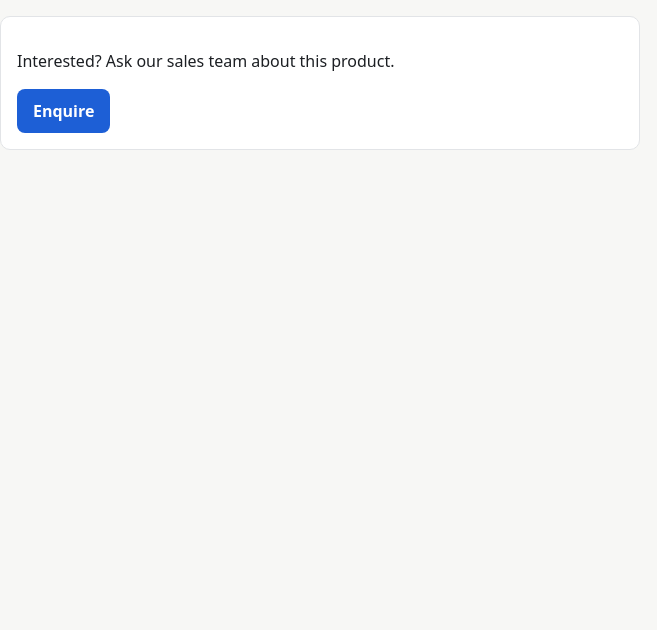
it: EnquiryForm › maps server-side field errors (422) onto the form
Click the button "Enquire" at (64, 111), box [17,89,110,133]
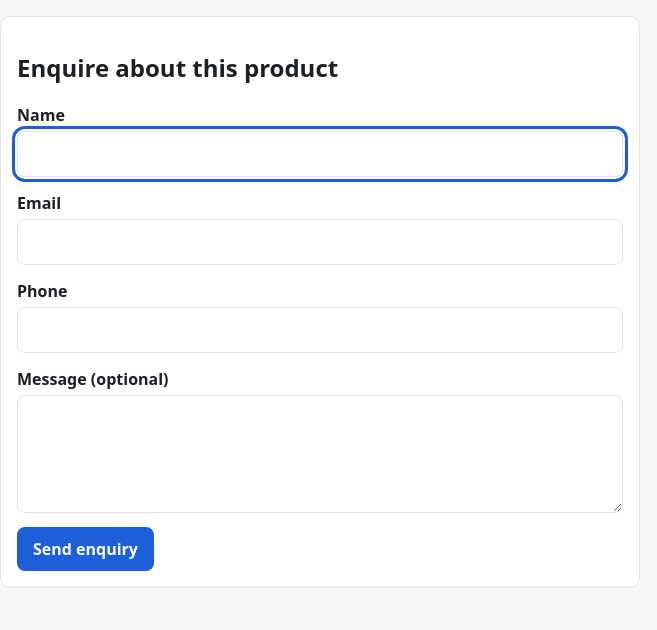
Type "Jane Doe" into the field labelled "Name" at (320, 154), box [17,131,623,177]
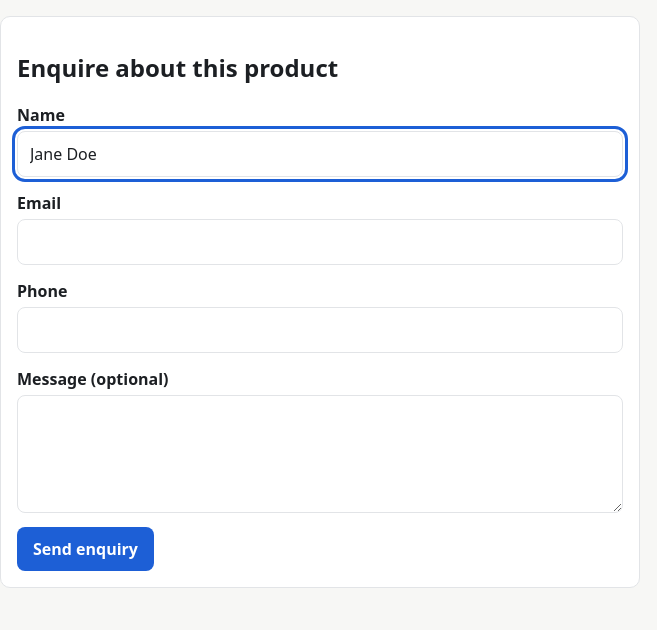
Type "jane@example.com" into the field labelled "Email" at (320, 242), box [17,219,623,265]
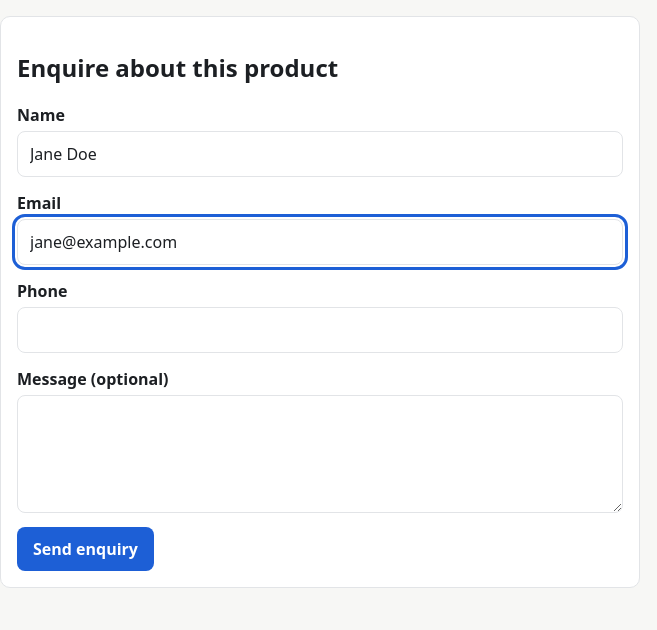
Type "+91 98765 43210" into the field labelled "Phone" at (320, 330), box [17,307,623,353]
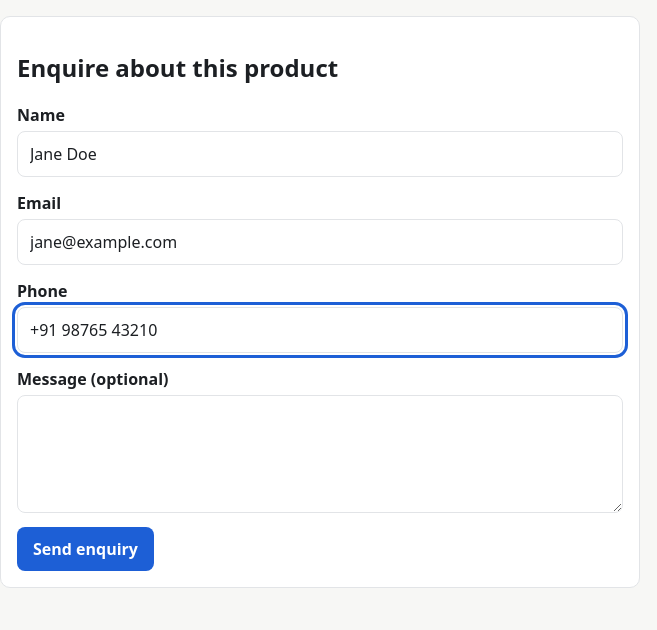
Type "Do you ship to Pune?" into the text box labelled "Message (optional)" at (320, 454), box [17,395,623,513]
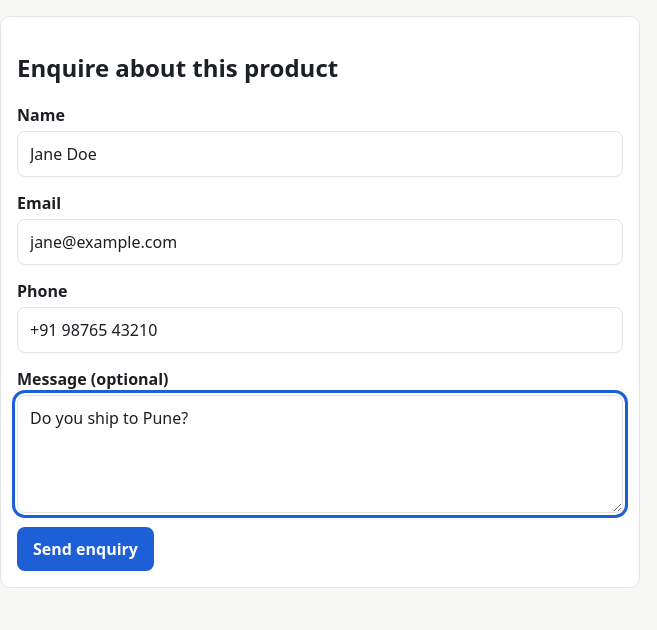
Click the button "Send enquiry" at (85, 549), box [17,527,154,571]
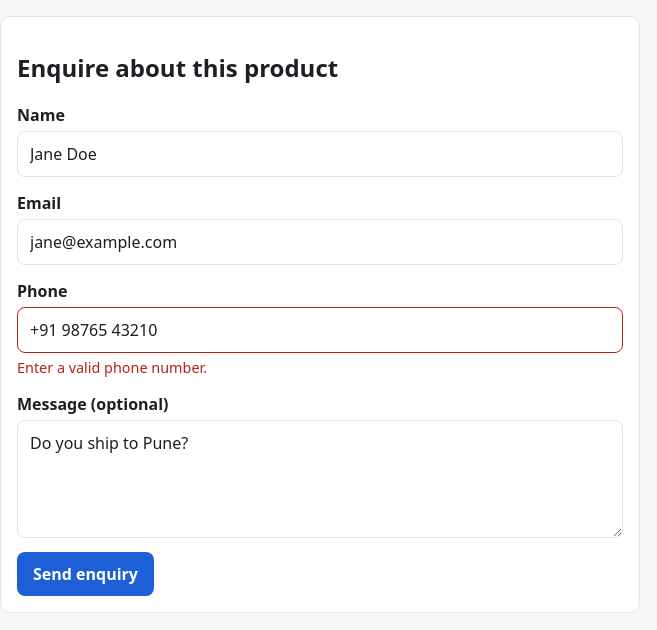
expect the text "Enter a valid phone number." is shown: met, box [17,358,207,377]
